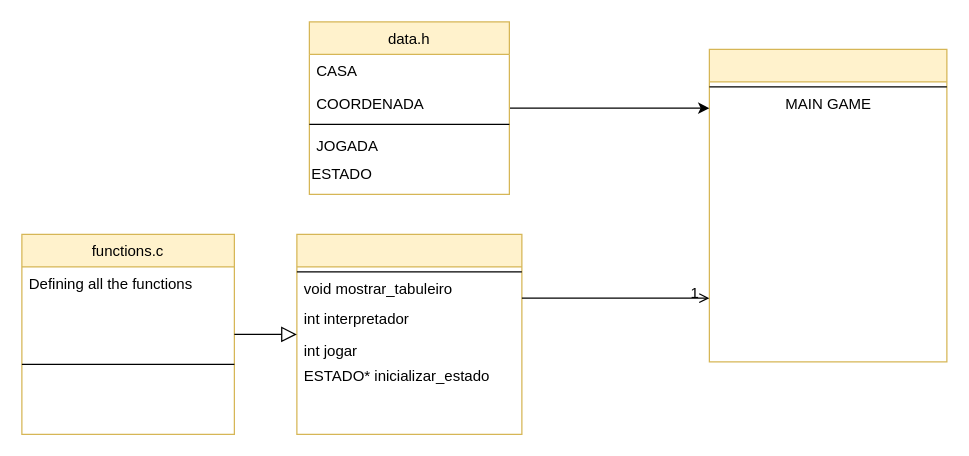
The diagram is 969 pixels wide and 456 high, and some of its shapes have lost their labels. The shapes that lost their labels are listed below. From the top down, each one's box as (x1, y1, x2, y2) in pixels, then its label:
(708, 48, 947, 362): main_game.c
(296, 233, 522, 434): functions.h
